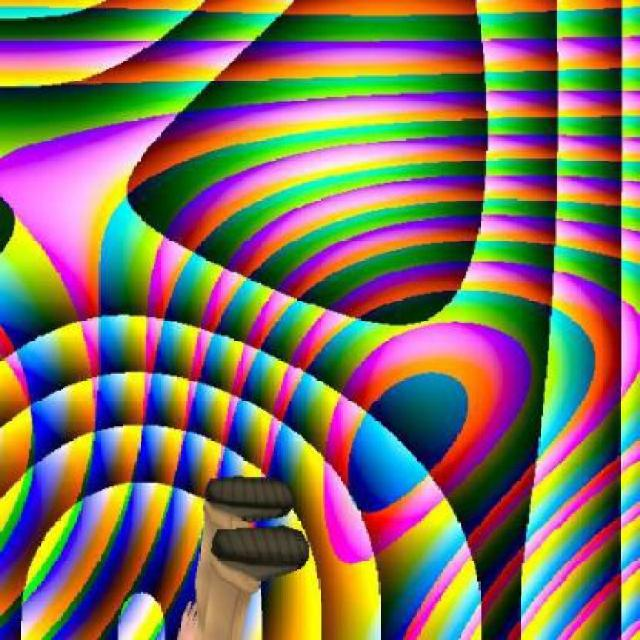Person: (171, 471, 315, 638)
